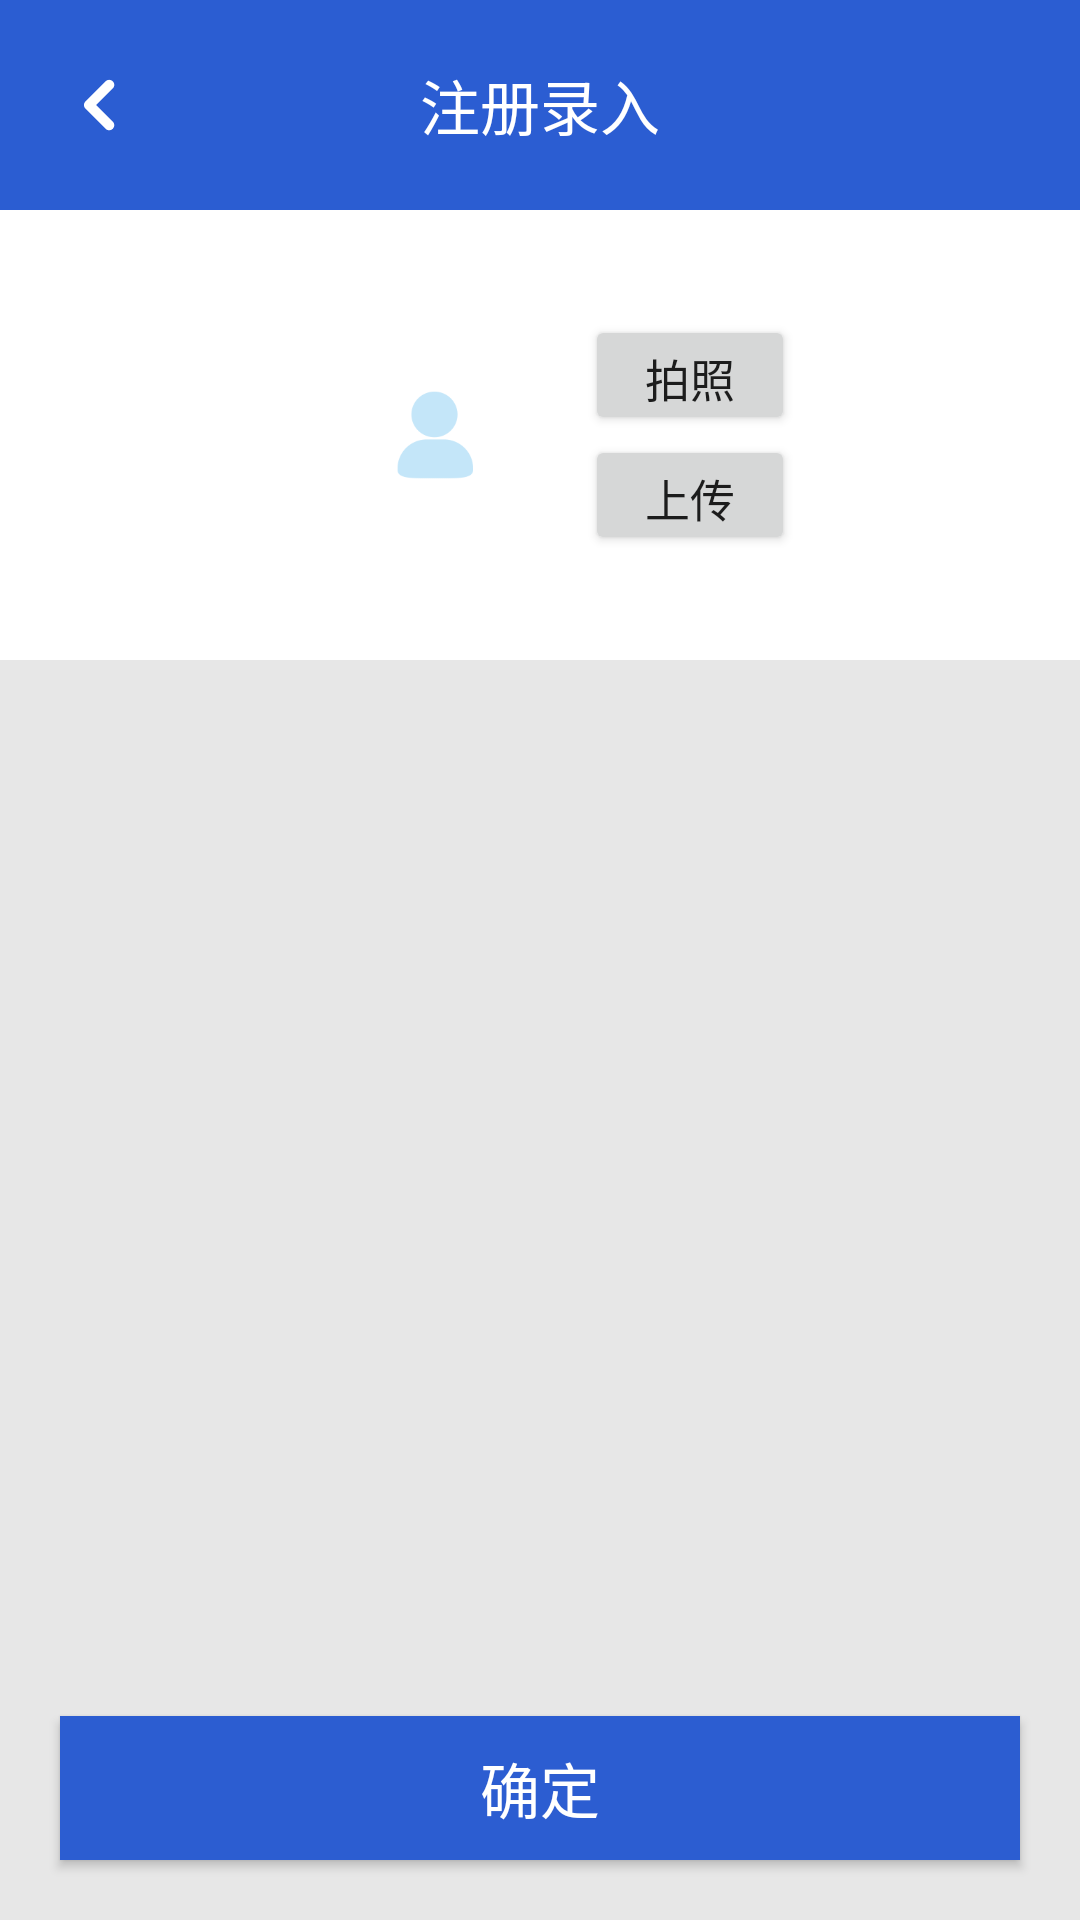

Where icons sit on this 1080px×1920px app screen, as {"x1": x1, "y1": y1, "x2": x2, "y2": y2}:
back: {"x1": 84, "y1": 79, "x2": 115, "y2": 131}
head: {"x1": 398, "y1": 392, "x2": 473, "y2": 478}
